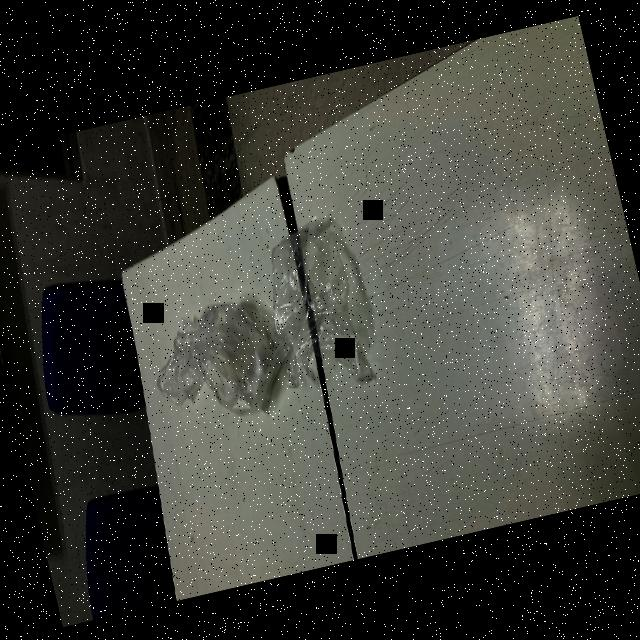plastic_bag: (247, 204, 390, 412), (176, 273, 293, 445)
scrap_plastic: (139, 304, 212, 409)
